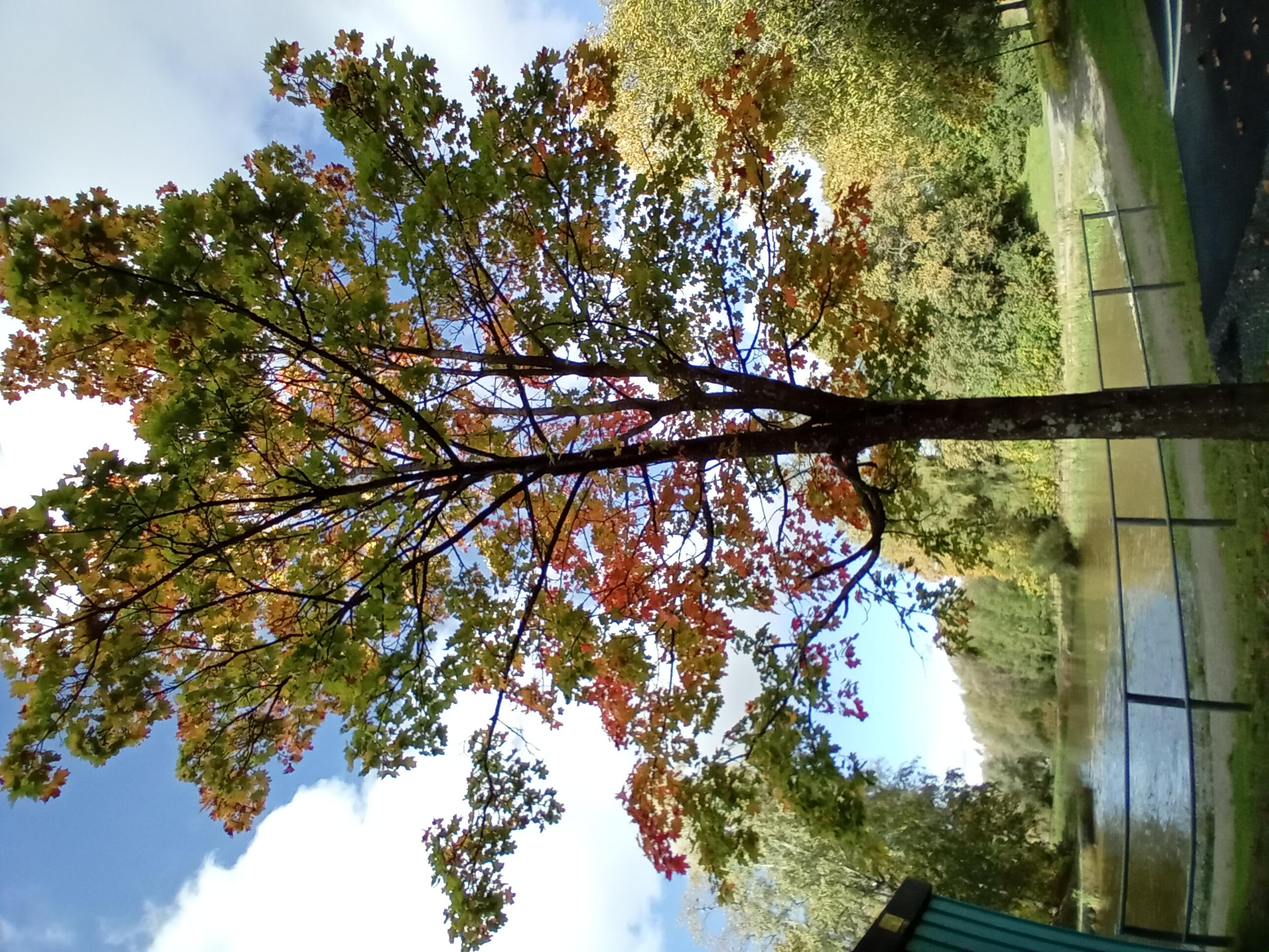Maple: (143, 1, 1138, 802)
